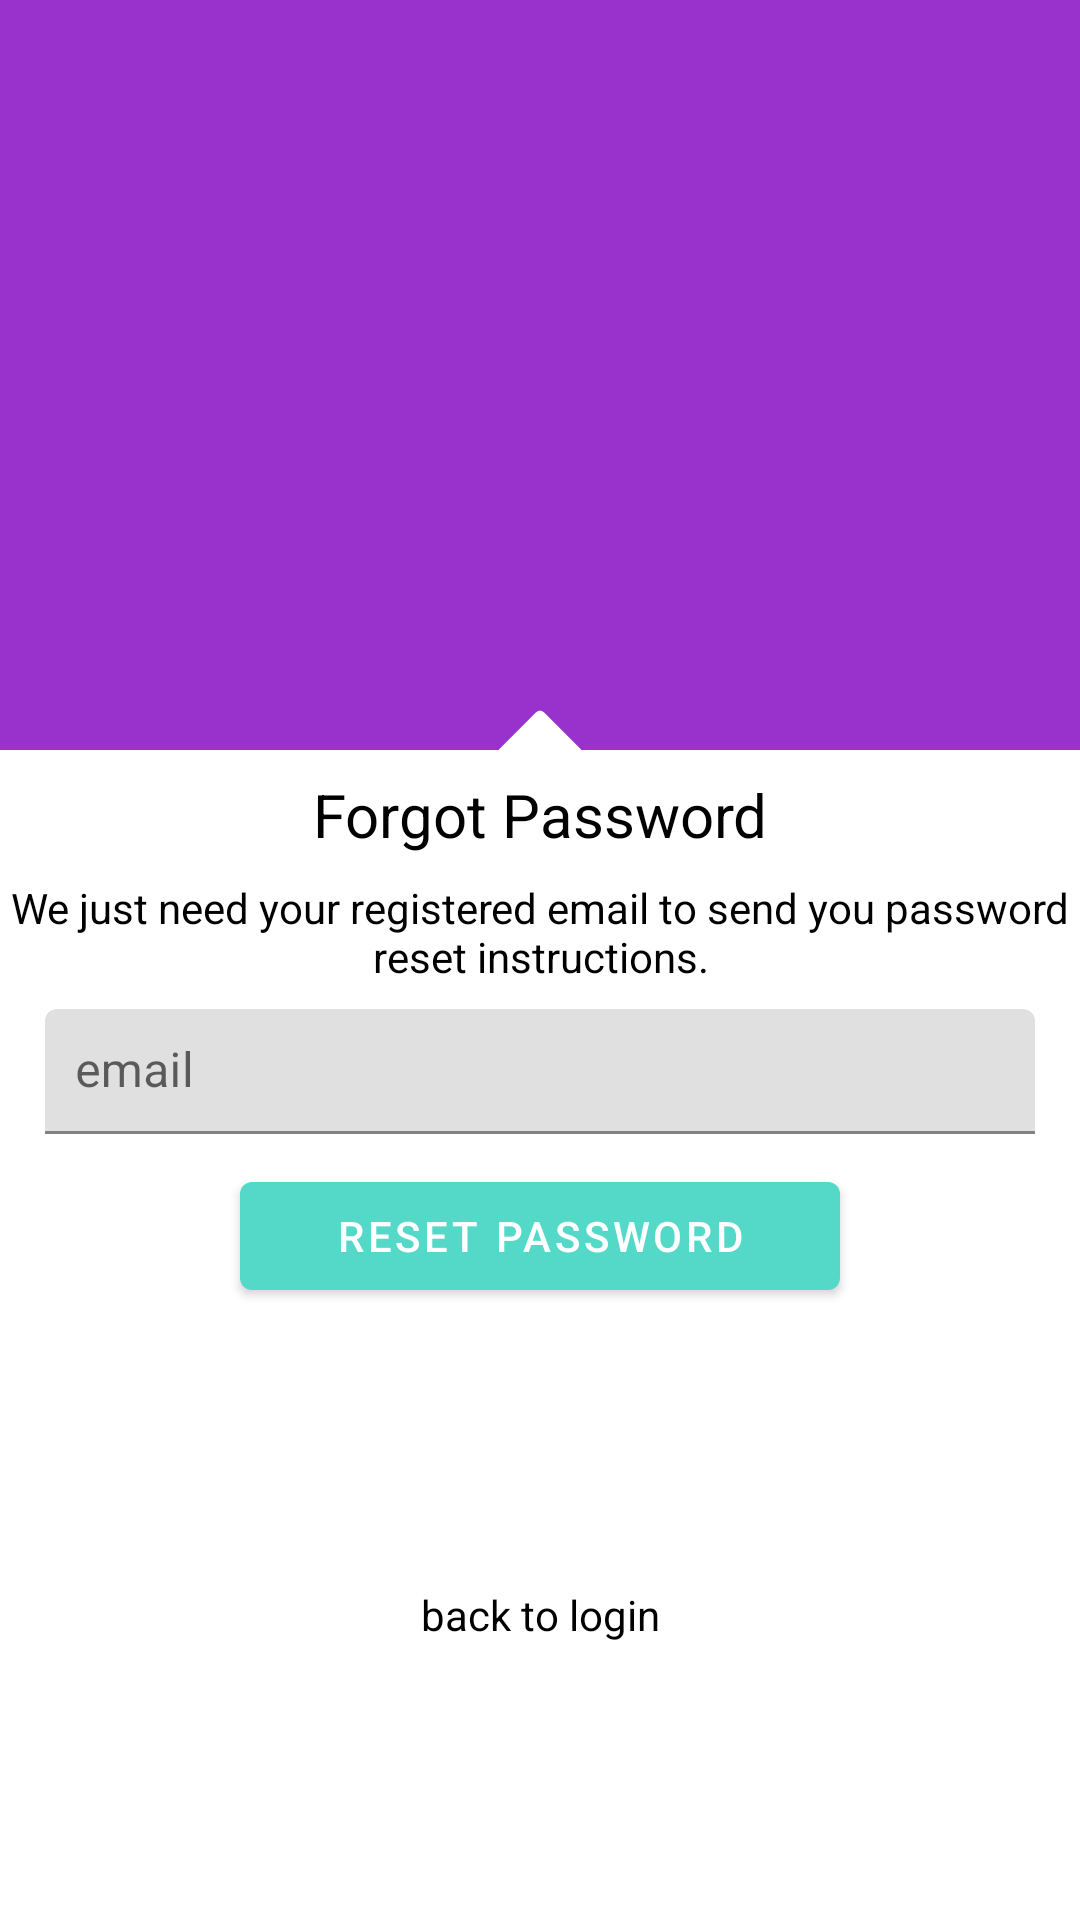

Screen size 1080x1920. Icon name, then its center in pixels as point (x, y):
caret arrow up: point (540, 736)
